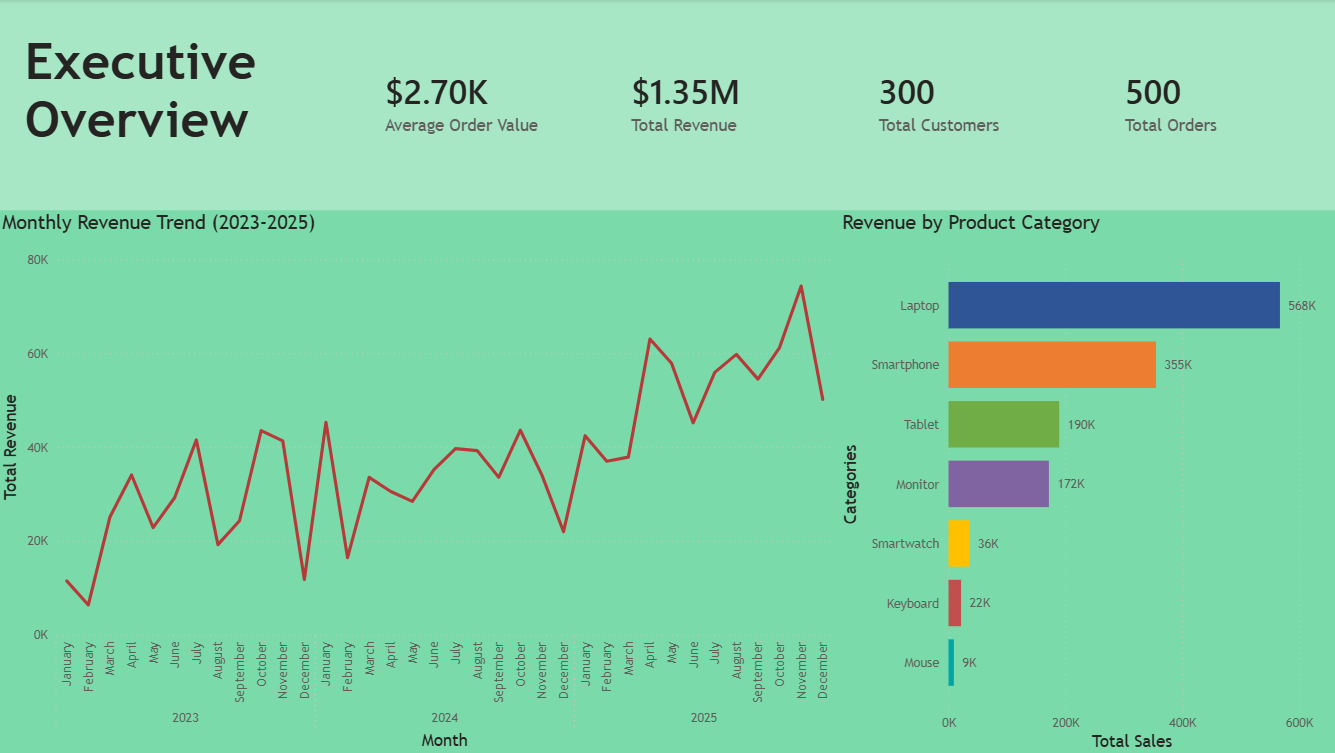

What the dashboard file says about the page in this screenshot:
{"tool":"powerbi","page":{"name":"Executive Overview","canvas":[1280,720],"ordinal":0},"visuals":[{"type":"cardVisual","fields":{"Data":["Orders.Total Revenue"]},"box":[341.8,37.3,235.7,121.4],"z":0},{"type":"cardVisual","fields":{"Data":["Orders.Total Orders"]},"box":[1045.5,37.1,234.5,121.4],"z":1000},{"type":"cardVisual","fields":{"Data":["Customers.Total Customers"]},"box":[811.5,37.3,234.5,121.4],"z":2000},{"type":"cardVisual","fields":{"Data":["Orders.Average Order Value"]},"box":[577.4,37.3,234.5,121.4],"z":3000},{"type":"lineChart","title":"Monthly Revenue Trend (2023-2025)","fields":{"Y":["Orders.Total Revenue"],"Category":["Orders.Order_Date.Variation.Date Hierarchy.Year","Orders.Order_Date.Variation.Date Hierarchy.Month"]},"box":[0,201.2,799.9,518.8],"z":4000},{"type":"clusteredBarChart","title":"Revenue by Product Category","fields":{"Y":["Order_Items.Total Sales"],"Category":["Categories.Category_Name"]},"box":[800.4,201.4,474,519.2],"z":5000},{"type":"textbox","box":[21.4,26.2,319,144],"z":6000}]}

Visuals, with their boxes in screenshot pixels (x1, y1, x2, y2), scaled from the page's 1280x720 canvas onto the 1335x753 screenshot:
cardVisual - Orders.Total Revenue: [left=356, top=39, right=602, bottom=166]
cardVisual - Orders.Total Orders: [left=1090, top=39, right=1334, bottom=166]
cardVisual - Customers.Total Customers: [left=846, top=39, right=1091, bottom=166]
cardVisual - Orders.Average Order Value: [left=602, top=39, right=847, bottom=166]
"Monthly Revenue Trend (2023-2025)" lineChart: [left=0, top=210, right=834, bottom=752]
"Revenue by Product Category" clusteredBarChart: [left=835, top=211, right=1329, bottom=752]
textbox: [left=22, top=27, right=355, bottom=178]
